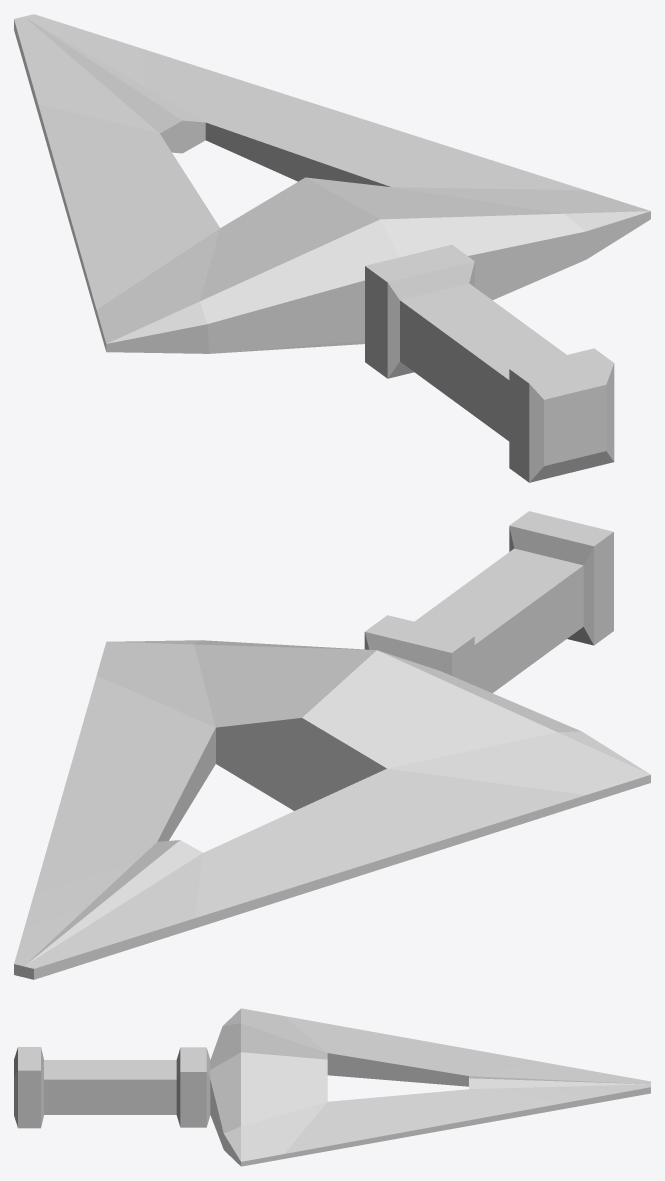
Rendered from P_HOOK.fbx.
3 views of the same model, one above another, from view 1: azimuth 30°, elevation 25°; view 2: azimuth 150°, elevation 25°; view 3: azimuth 270°, elevation 25° (orthographic). The views are drawn at different scales.
Visible parts, largest first — view 1: HOOK; view 2: HOOK; view 3: HOOK.
Part boxes in pixels (bbox=[...]): HOOK: bbox=[14, 14, 650, 482]; HOOK: bbox=[14, 511, 650, 979]; HOOK: bbox=[14, 1008, 650, 1166].
Bounding box in the file's own units: 74.35 × 16.13 × 130.
Materials: 1 (1 with a texture image).
